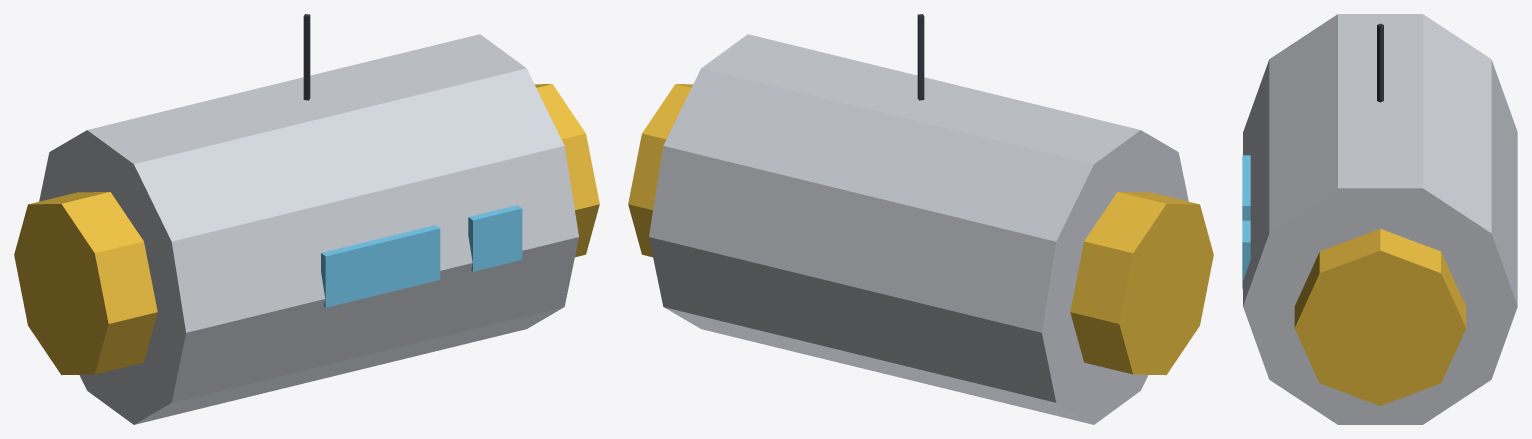
The model's file is lowpoly-station_module.glb.
3 views of the same model, side by side, from view 1: azimuth 30°, elevation 25°; view 2: azimuth 150°, elevation 25°; view 3: azimuth 270°, elevation 25° (orthographic). The views are drawn at different scales.
Parts seen in each view (by area): view 1: station_module; view 2: station_module; view 3: station_module.
Boxes of the visible parts, box(x1,y1,x2,y2) form: station_module: box(14, 14, 599, 424); station_module: box(628, 14, 1213, 424); station_module: box(1242, 14, 1517, 424).
Bounding box in the file's own units: 3 × 2.01 × 1.6.
